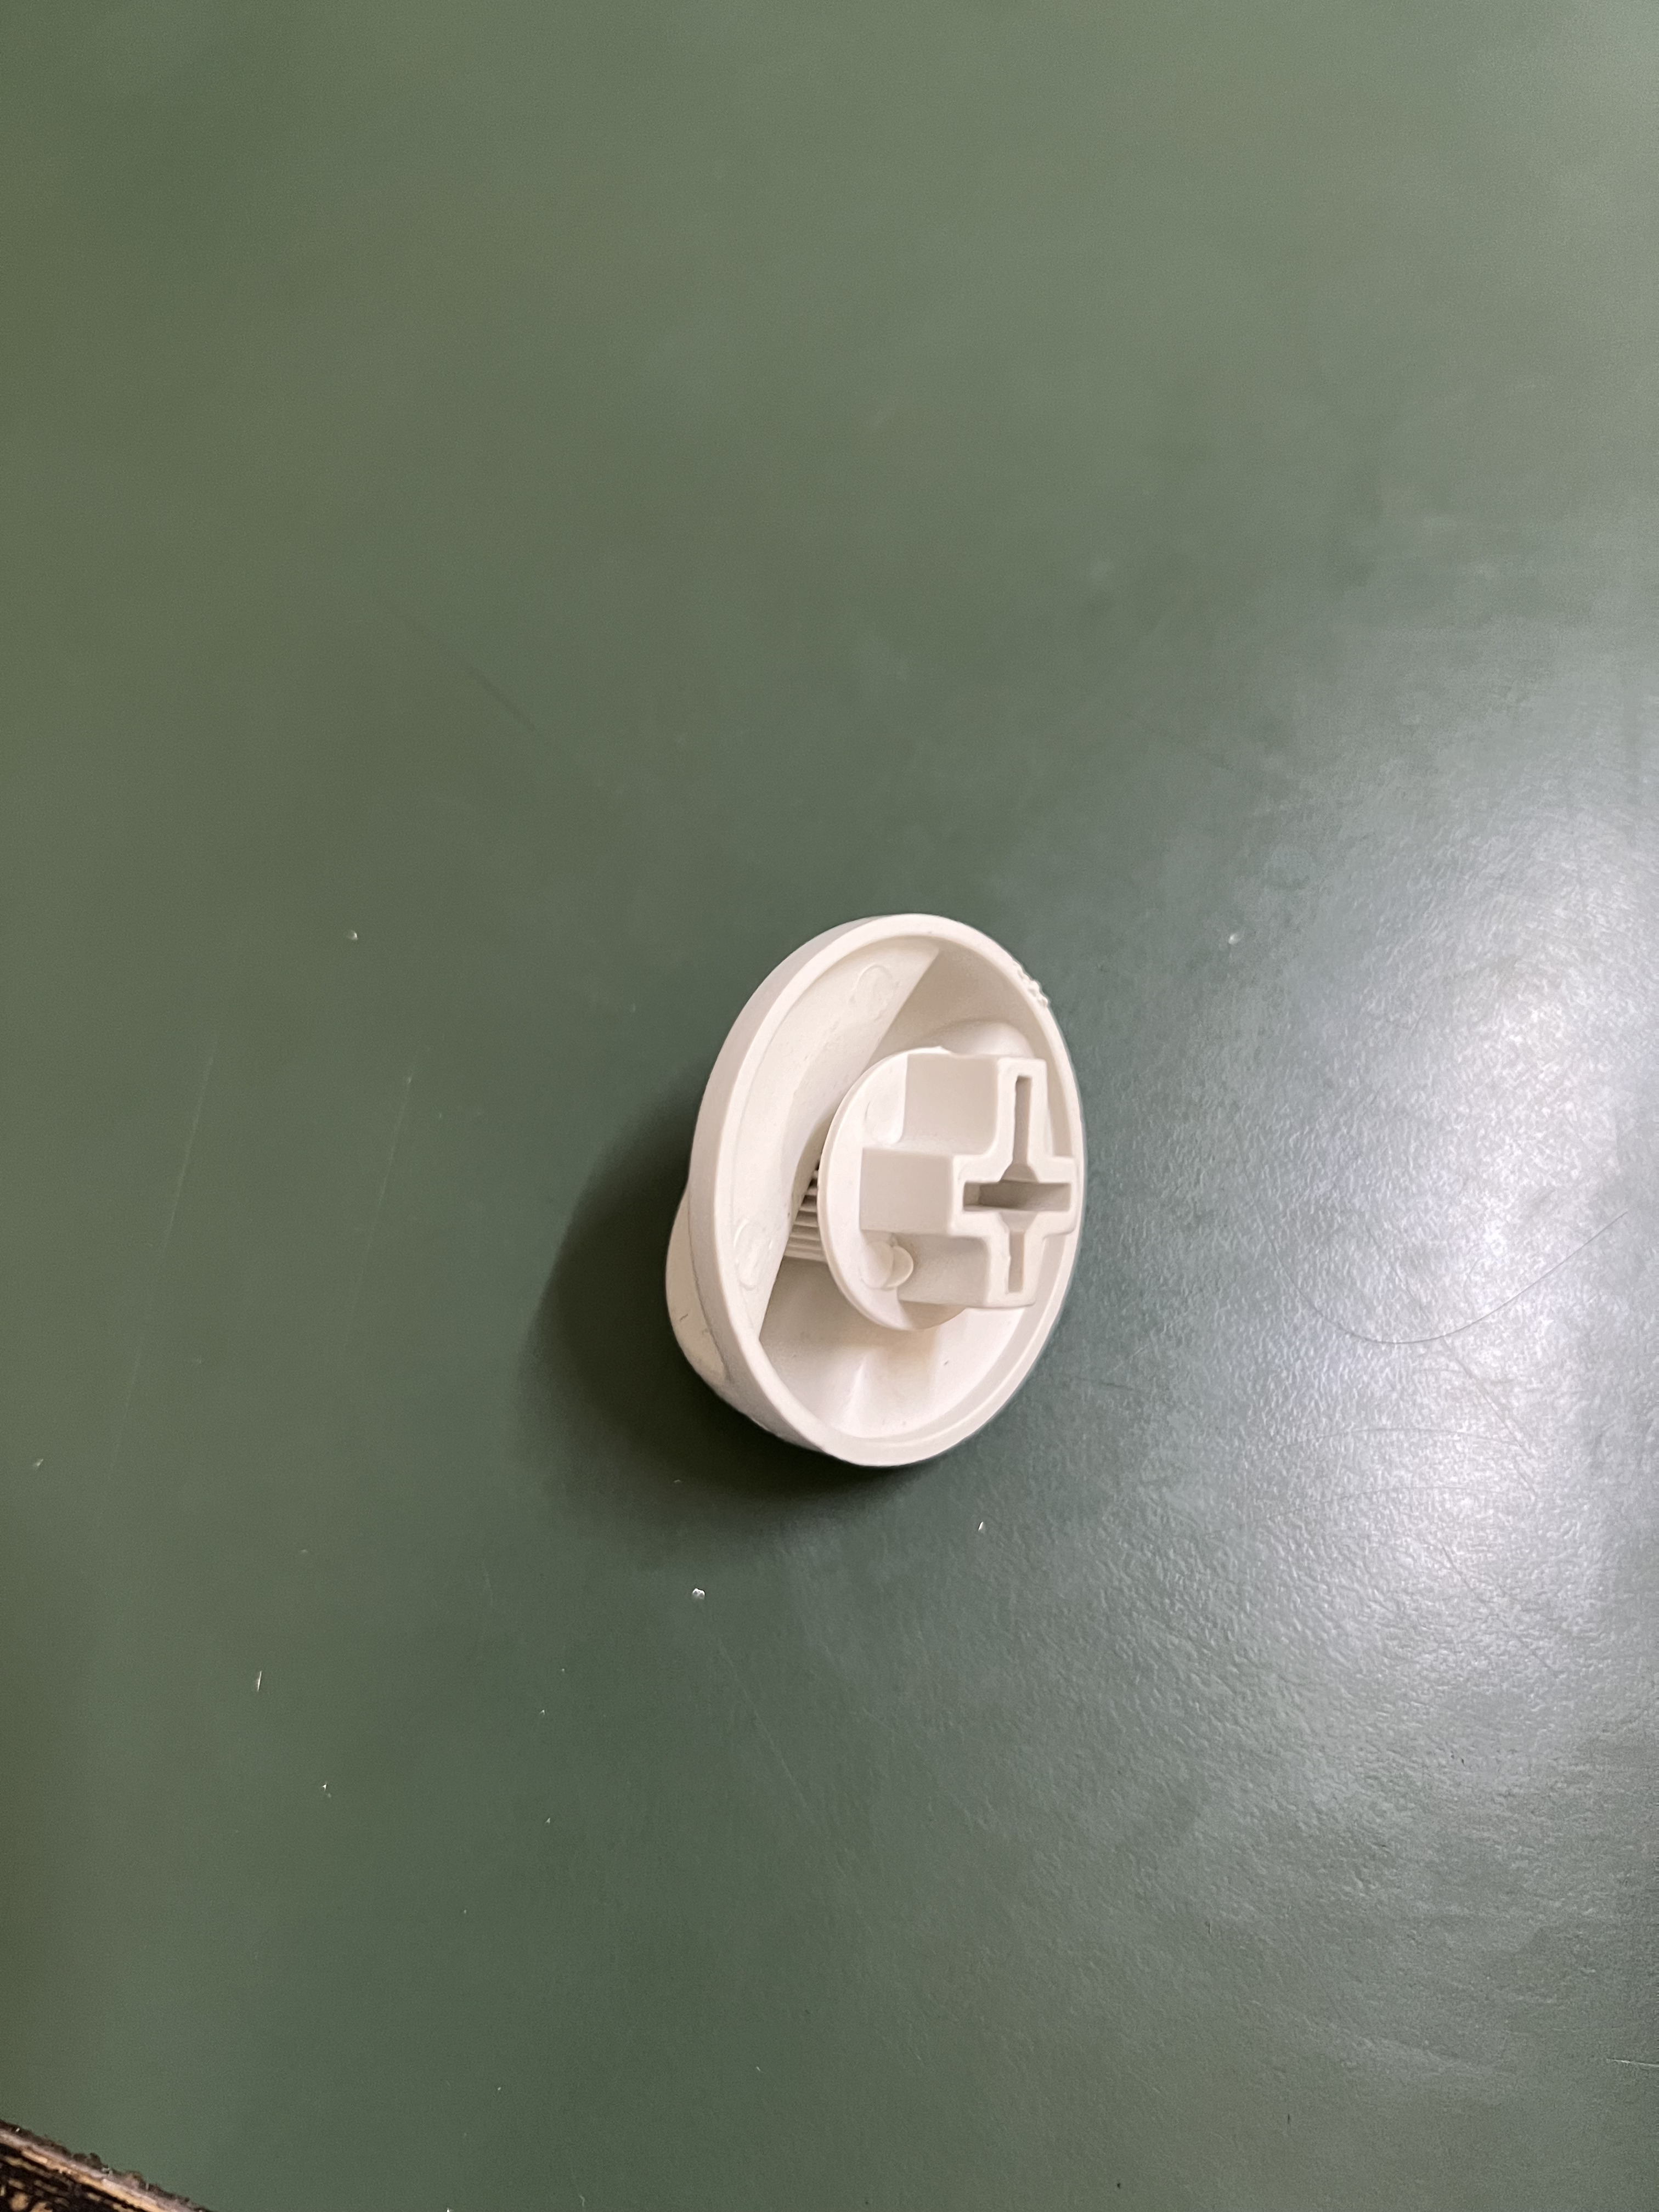regulator: (655, 862, 1096, 1529)
